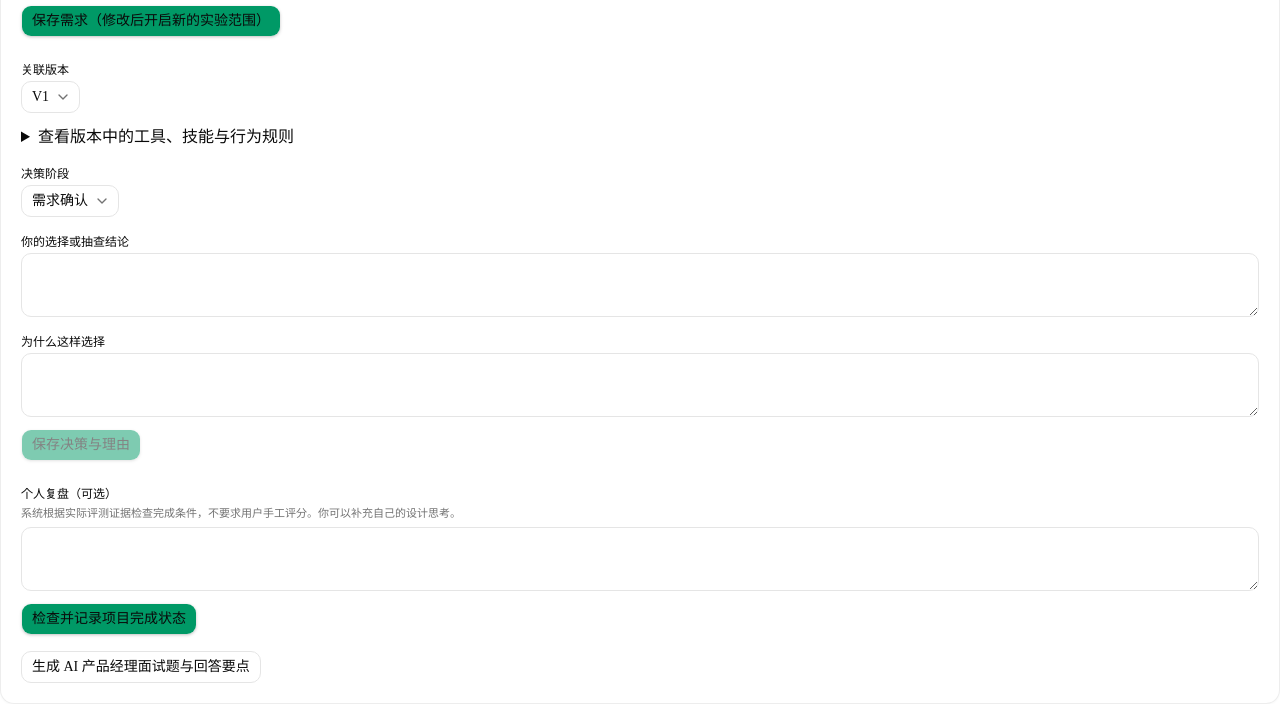
Test: shows completion separately from quality and displays interview evidence
This screenshot has width=1280, height=704.
(page scrolled)
Type "V2 regressed, but evidence is valid." into the text box labelled "个人复盘（可选）" at (640, 559), box [21,527,1259,591]
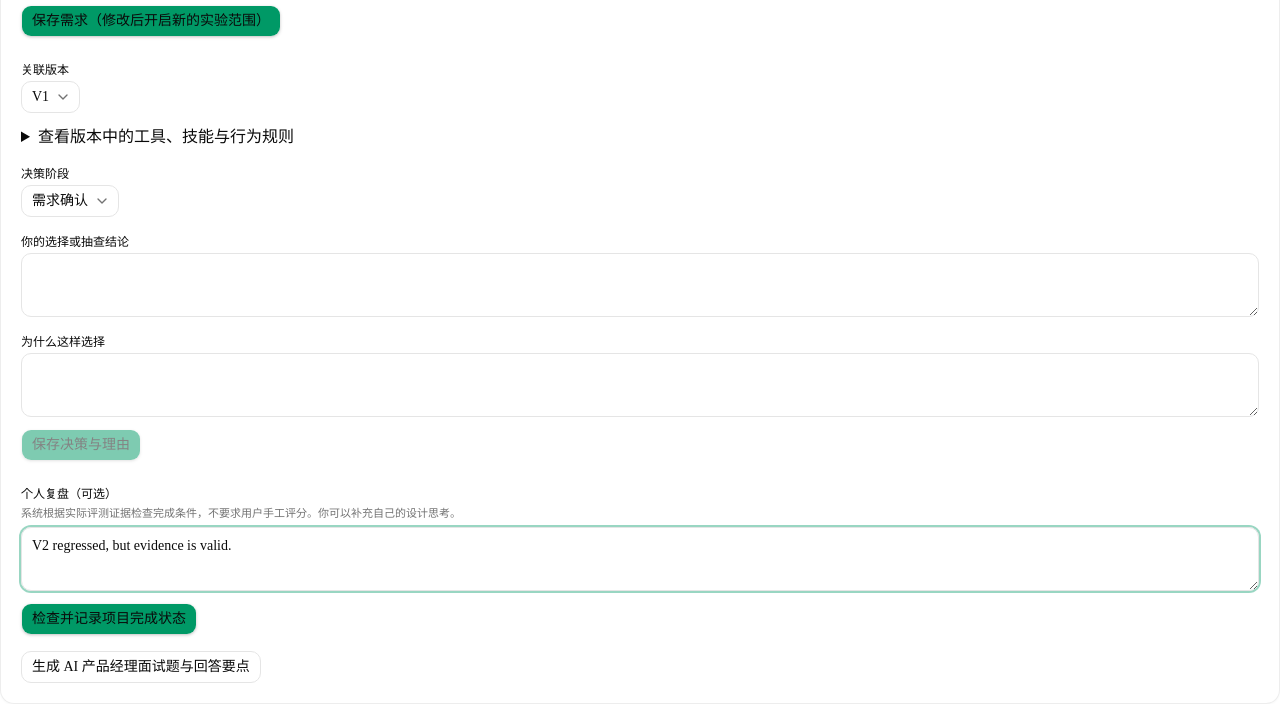
Click the button "检查并记录项目完成状态" at (109, 619), box [21,603,197,635]
(page scrolled)
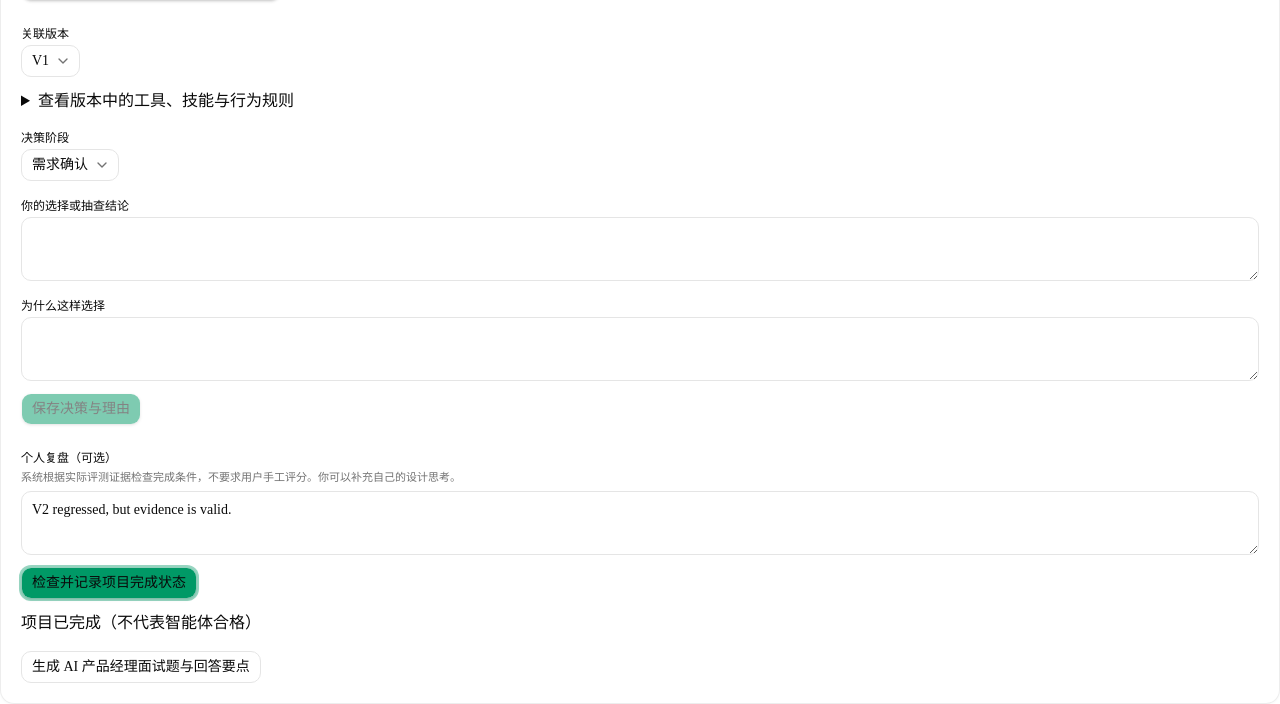
Expected: the text "项目已完成（不代表智能体合格）" is shown, [21,614,261,631]
Click the button "生成 AI 产品经理面试题与回答要点" at (141, 667), box [21,651,261,683]
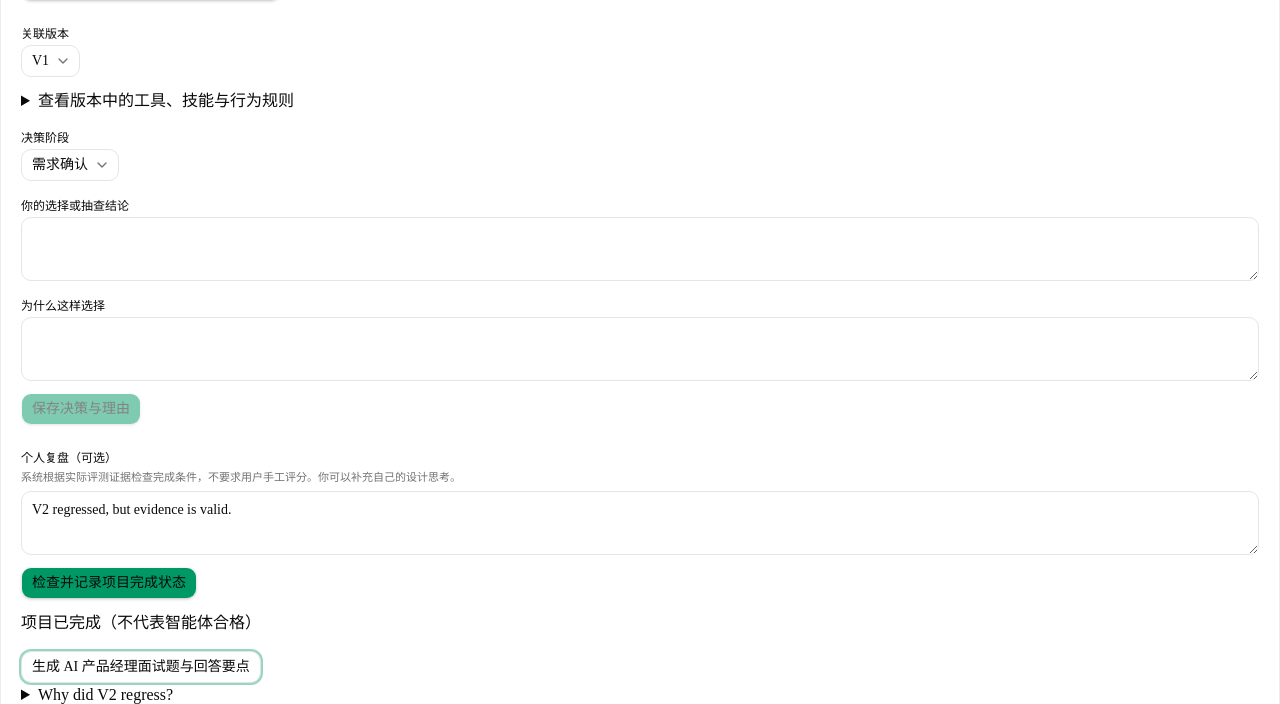
Expected: the heading "Why did V2 regress?" is shown, [38,686,173,703]
